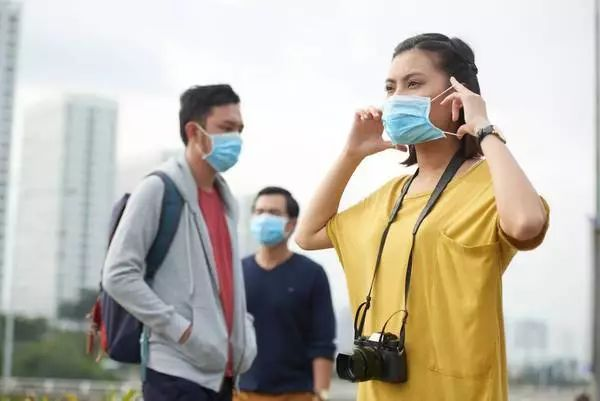rightmask: (381, 33, 481, 179), (175, 80, 247, 184), (247, 181, 296, 268)
